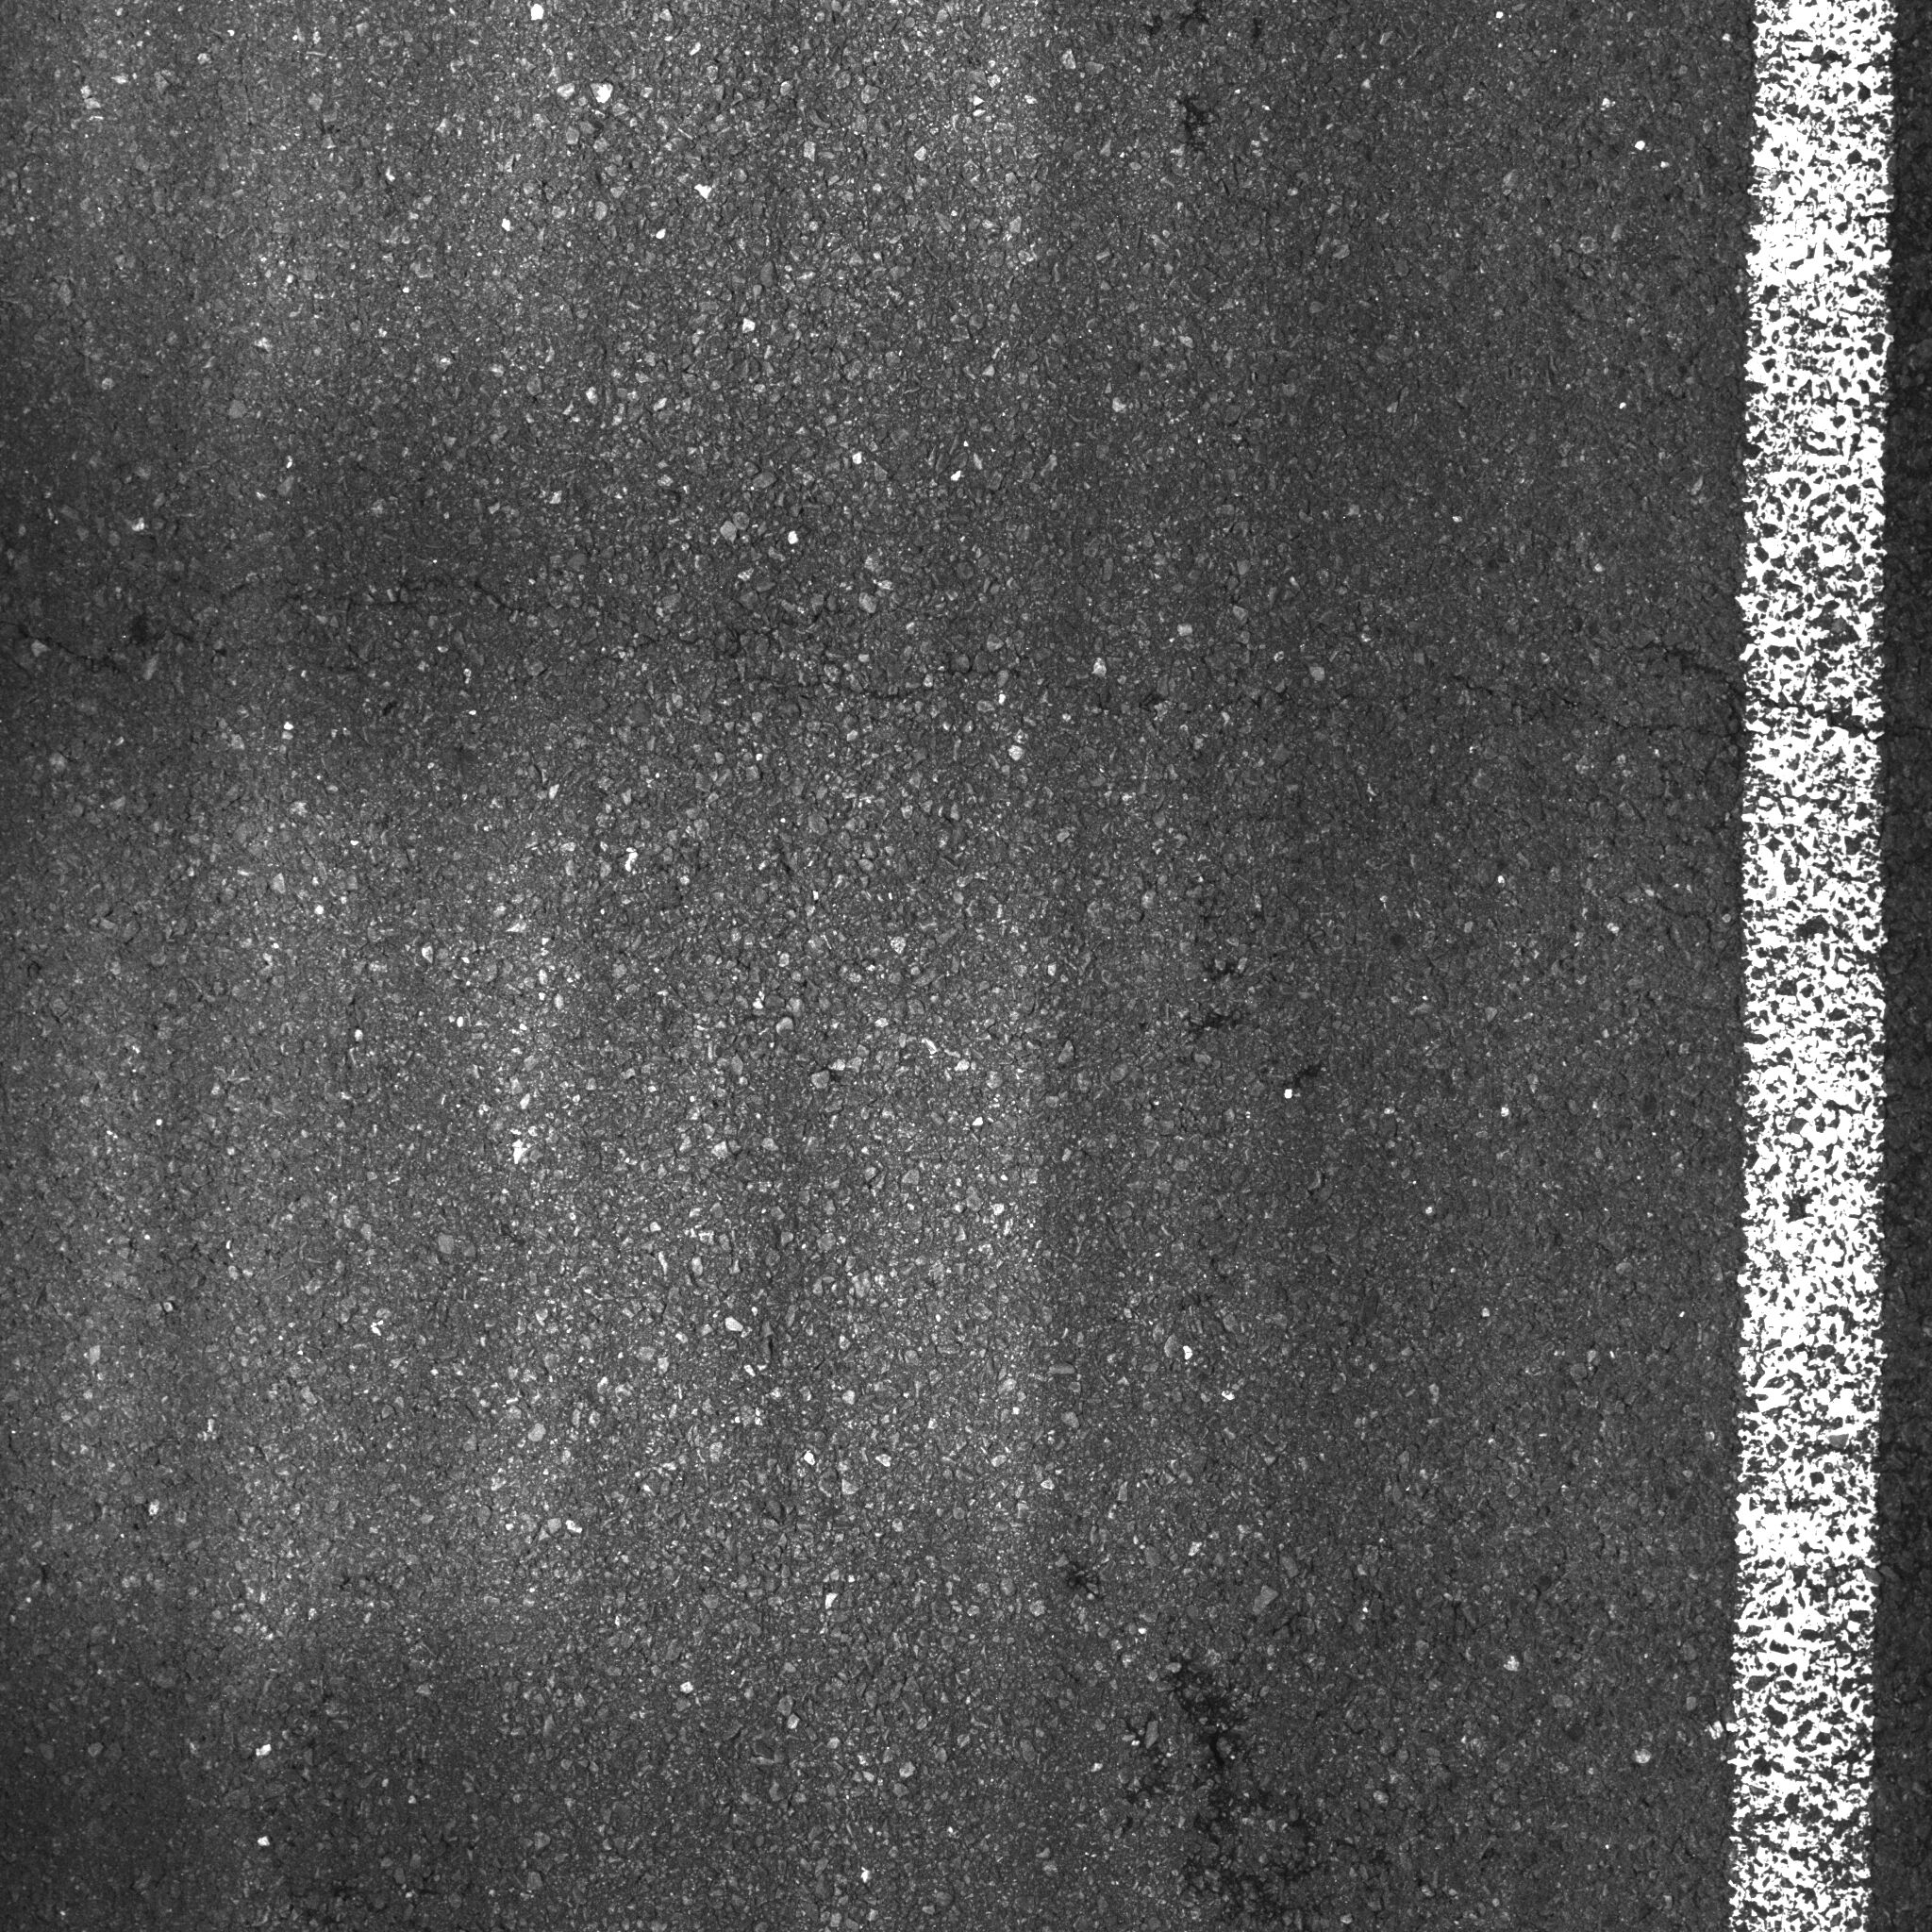transeverse: (41, 579, 1867, 805)
